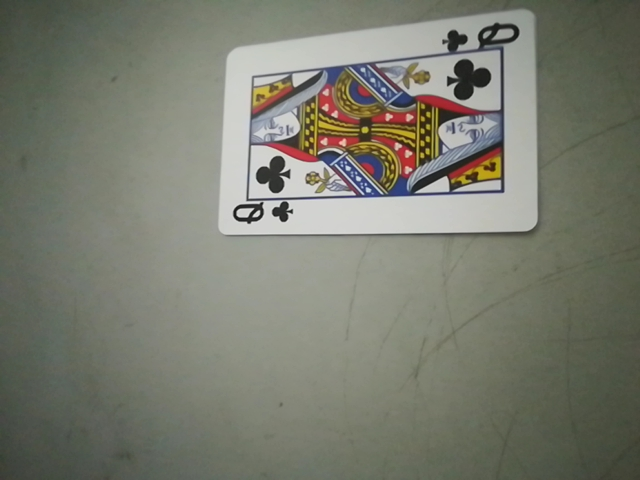mh q: (224, 194, 297, 234), (435, 20, 523, 53)
